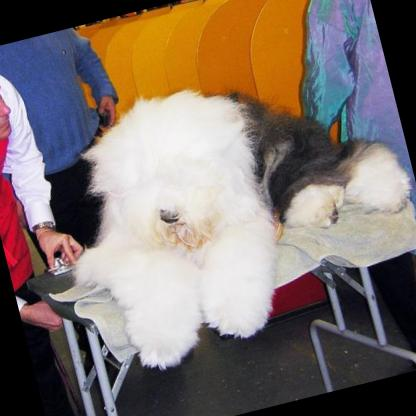Old_English_sheepdog: (36, 45, 416, 380)
